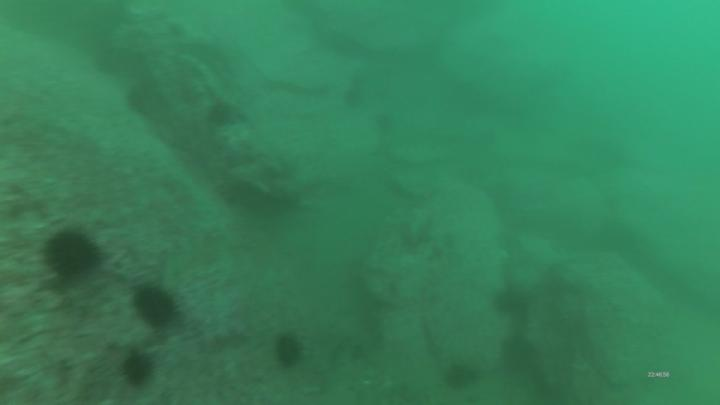echinus: (38, 226, 102, 282), (130, 281, 182, 334), (116, 351, 158, 391), (123, 82, 161, 119), (272, 331, 306, 371), (444, 359, 481, 395), (492, 288, 530, 320), (500, 334, 533, 362), (208, 101, 237, 130), (370, 110, 397, 138), (341, 88, 363, 112)
